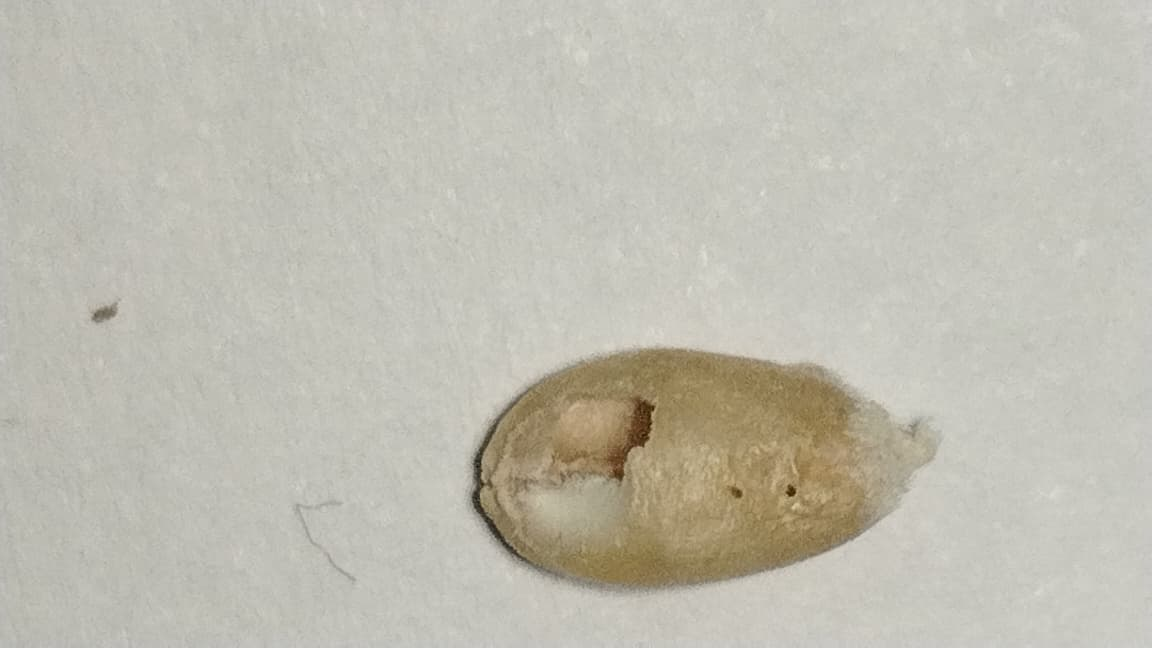damage: (477, 349, 950, 587)
insectdamage: (516, 381, 655, 554)
